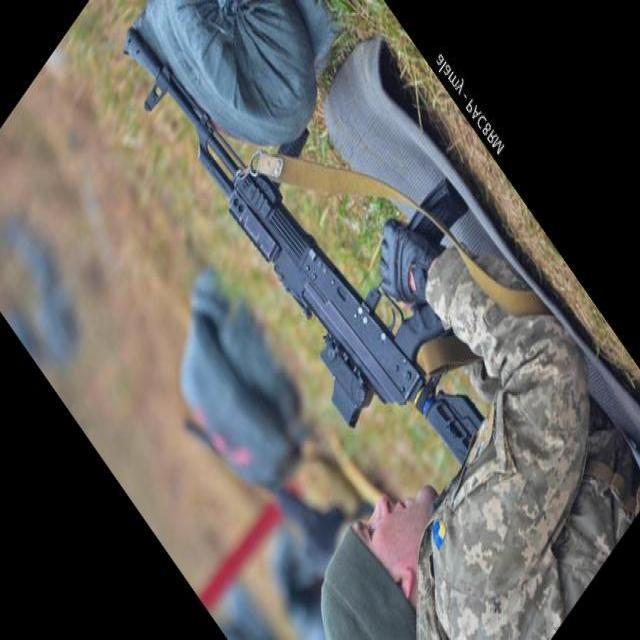weapon: (124, 25, 486, 466)
